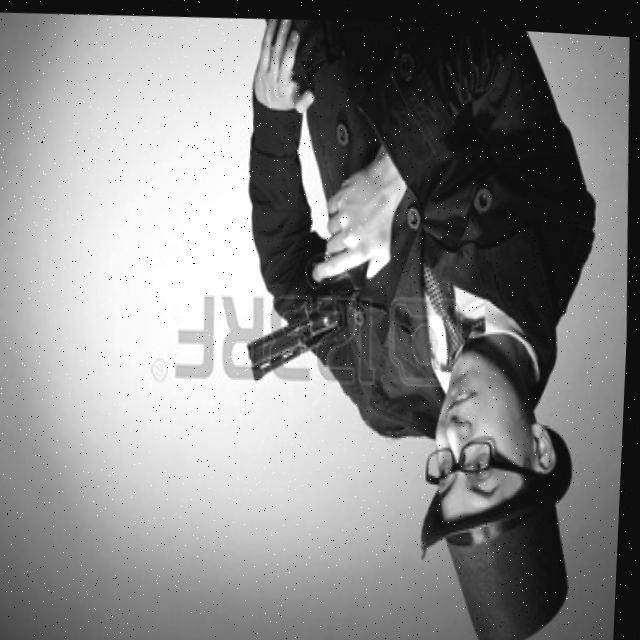pistol: (244, 253, 372, 381)
